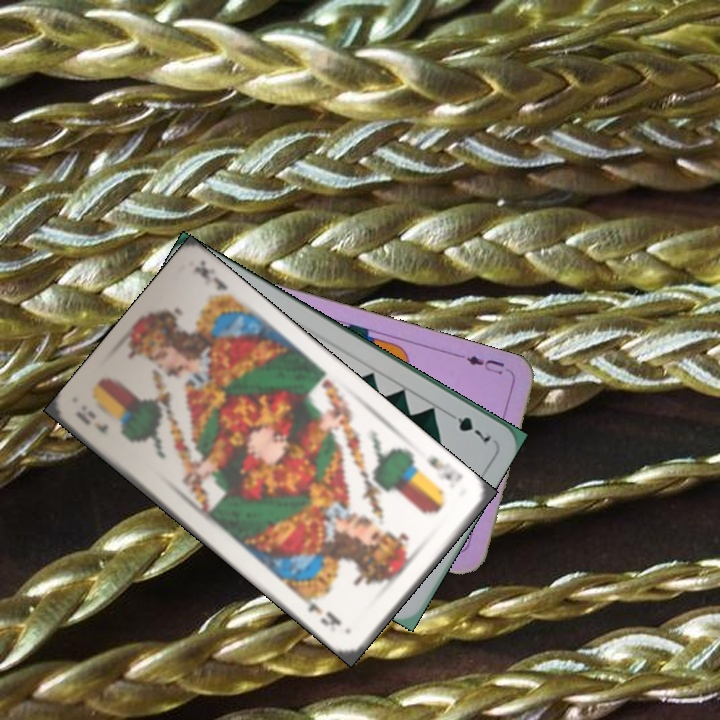EK: (422, 453, 466, 483), (72, 408, 111, 436)
EU: (456, 350, 514, 378)
G7: (441, 406, 494, 445)
